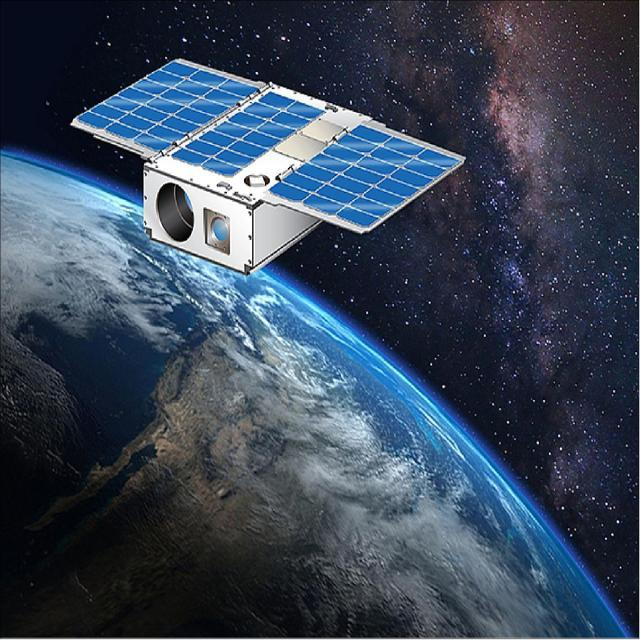sat: (51, 32, 476, 314)
